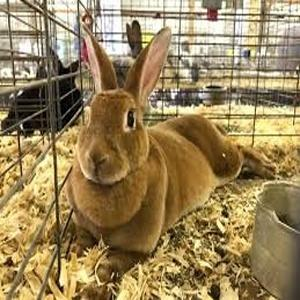rabbit: (67, 27, 275, 285)
